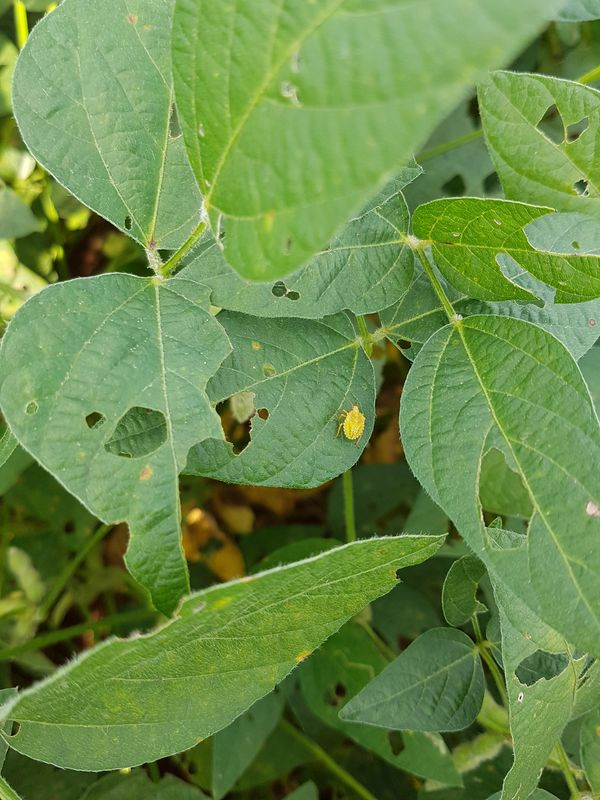Euschistus_heros_ninfa: (330, 396, 377, 448)
